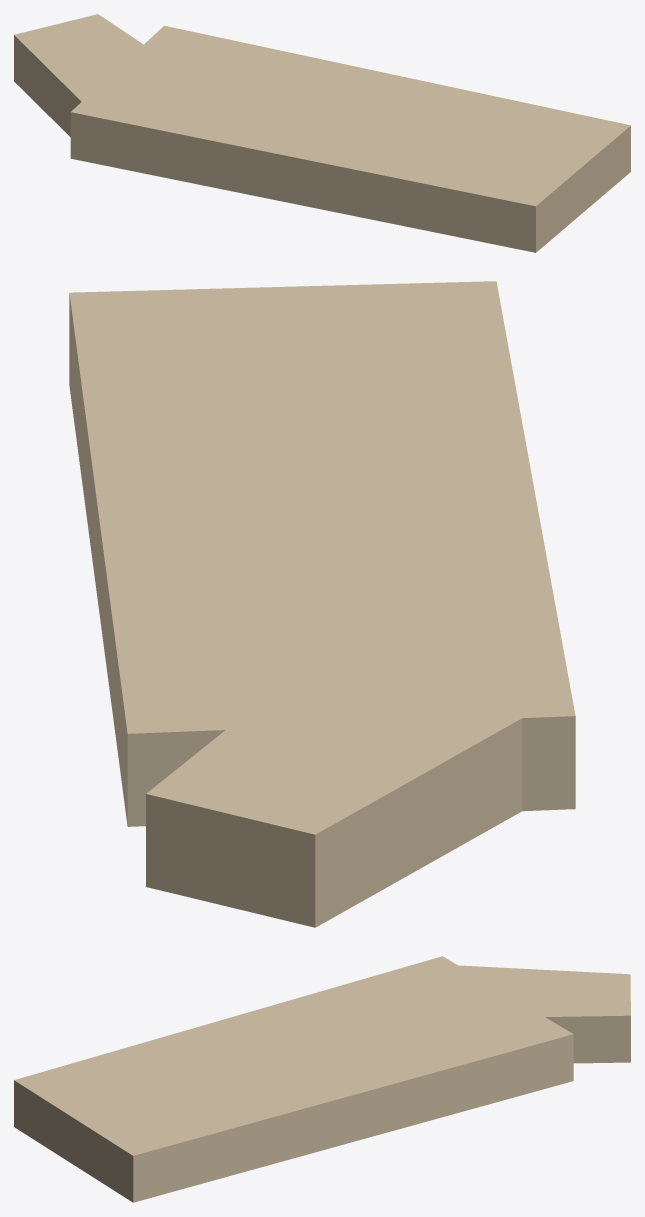
The model's file is 13_8-estimated-coarse.glb.
3 views of the same model, one above another, from view 1: azimuth 30°, elevation 25°; view 2: azimuth 150°, elevation 25°; view 3: azimuth 270°, elevation 25° (orthographic). The views are drawn at different scales.
Bounding box in the file's own units: 110 × 12 × 143.
